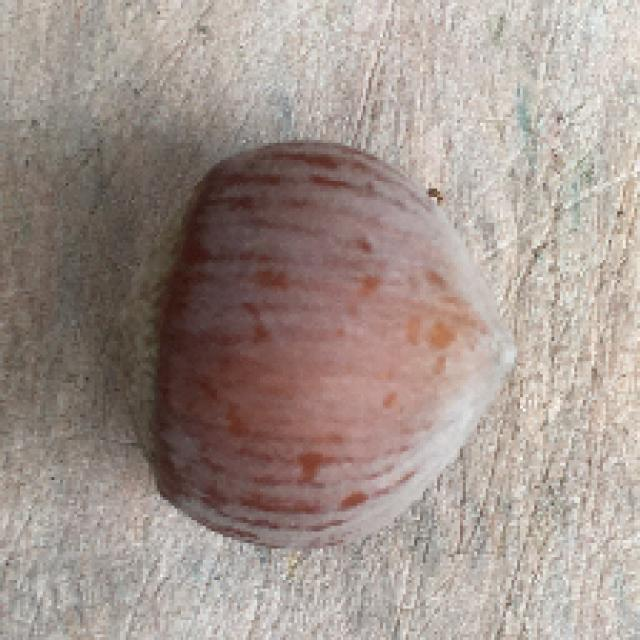qualityHazelnut: (119, 125, 518, 562)
